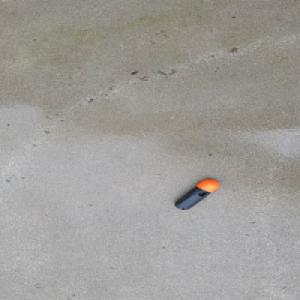PlasticPart: (173, 179, 220, 210)
